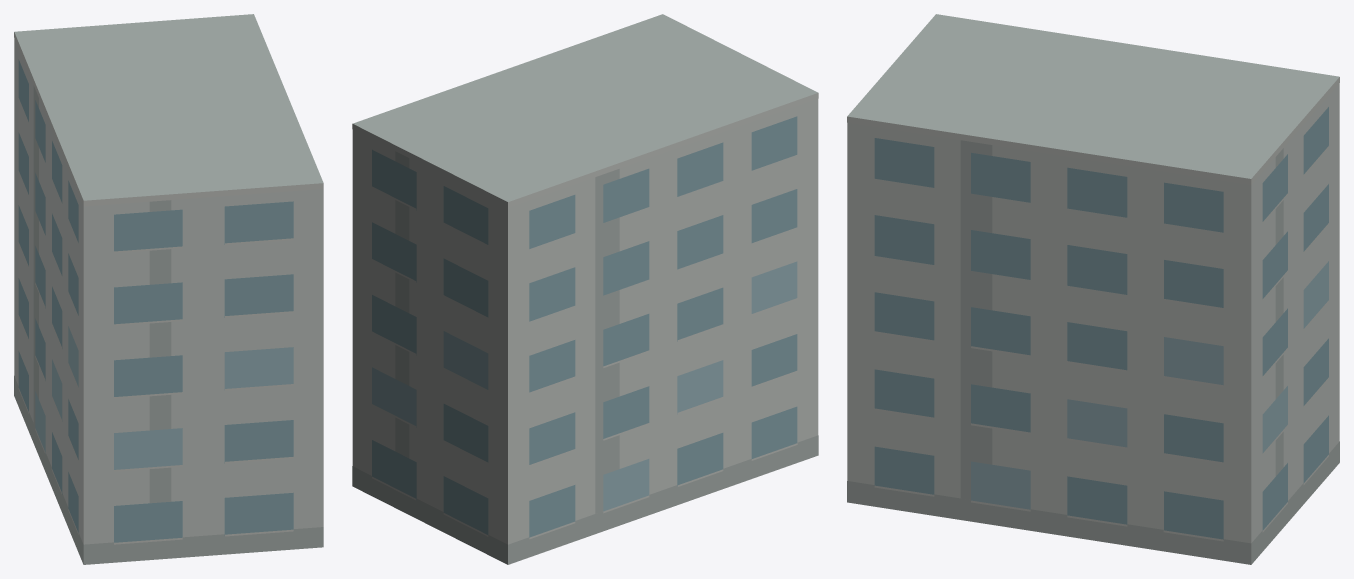
The model's file is residential-318243d1-65cf-42da-8608-482d002796b7.glb.
3 renders of one model, left to right at view 1: azimuth 30°, elevation 25°; view 2: azimuth 150°, elevation 25°; view 3: azimuth 270°, elevation 25°, orthographic. The views are drawn at different scales.
Parts seen in each view (by area): view 1: residential-318243d1-65cf-42da-8608-482d002796b7.tmp; view 2: residential-318243d1-65cf-42da-8608-482d002796b7.tmp; view 3: residential-318243d1-65cf-42da-8608-482d002796b7.tmp.
Boxes of the visible parts, x1,y1,x2,y2 form: residential-318243d1-65cf-42da-8608-482d002796b7.tmp: (14,14,323,564); residential-318243d1-65cf-42da-8608-482d002796b7.tmp: (352,14,818,564); residential-318243d1-65cf-42da-8608-482d002796b7.tmp: (847,14,1339,564).
Bounding box in the file's own units: 13.99 × 15.25 × 17.66.
